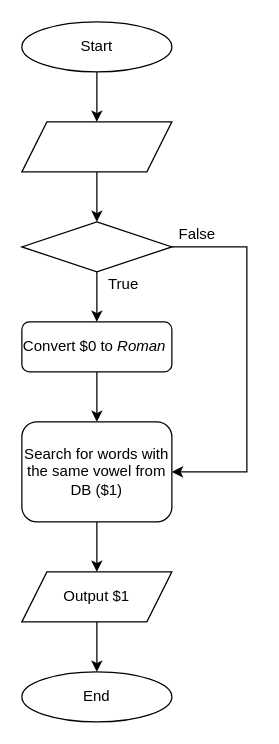
Image size: 279x744. Some labels were removed from this diagram. Here are the shapes that lost their labels. From the top down, the centre of each, then its label:
At point 96,146: "Input word ($0)".
At point 96,246: "$0 != Roman".
